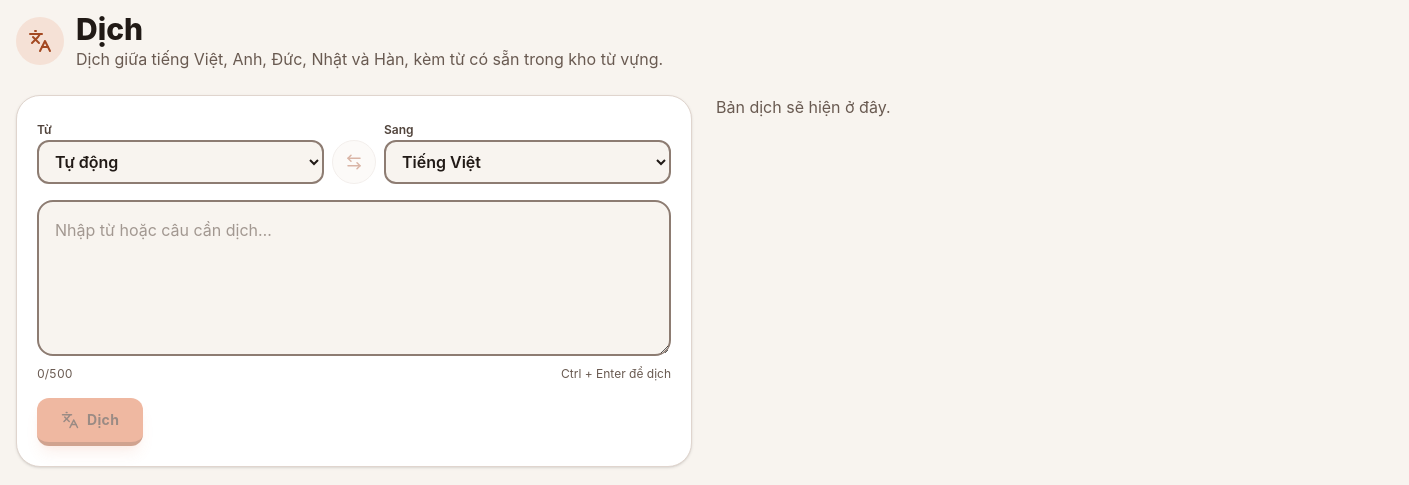
Test: TranslatePage › swaps the languages and moves the translation into the box
Select "Tiếng Nhật" in the dropdown labelled "Sang" at [528, 162], box [384,140,671,184]
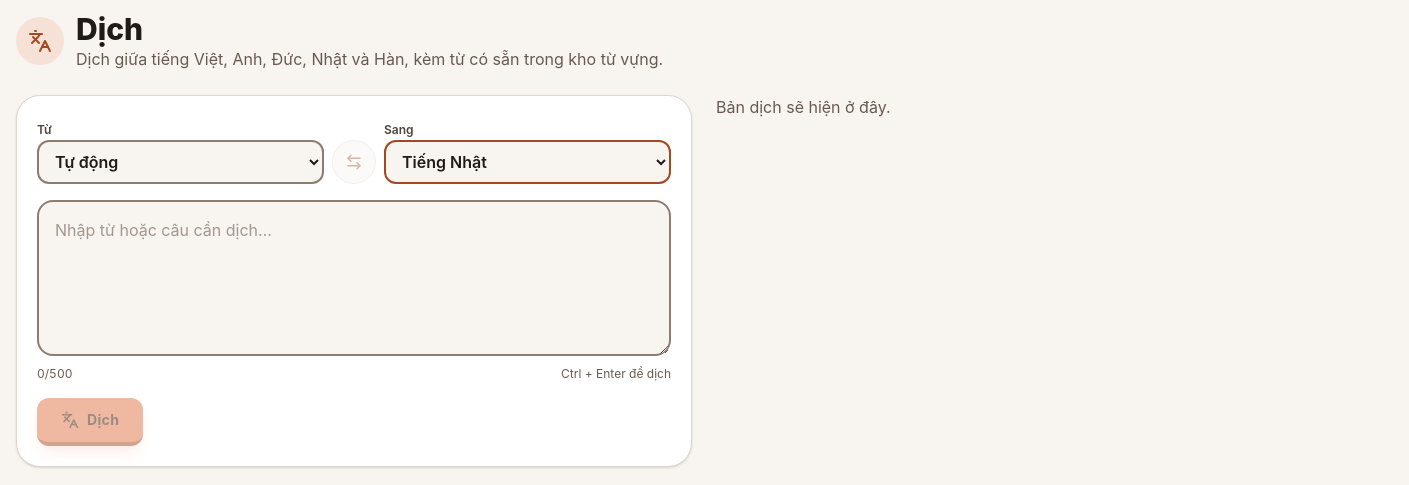
Type "con mèo" into the text box named "Nội dung cần dịch" at [354, 278], box [37,200,671,356]
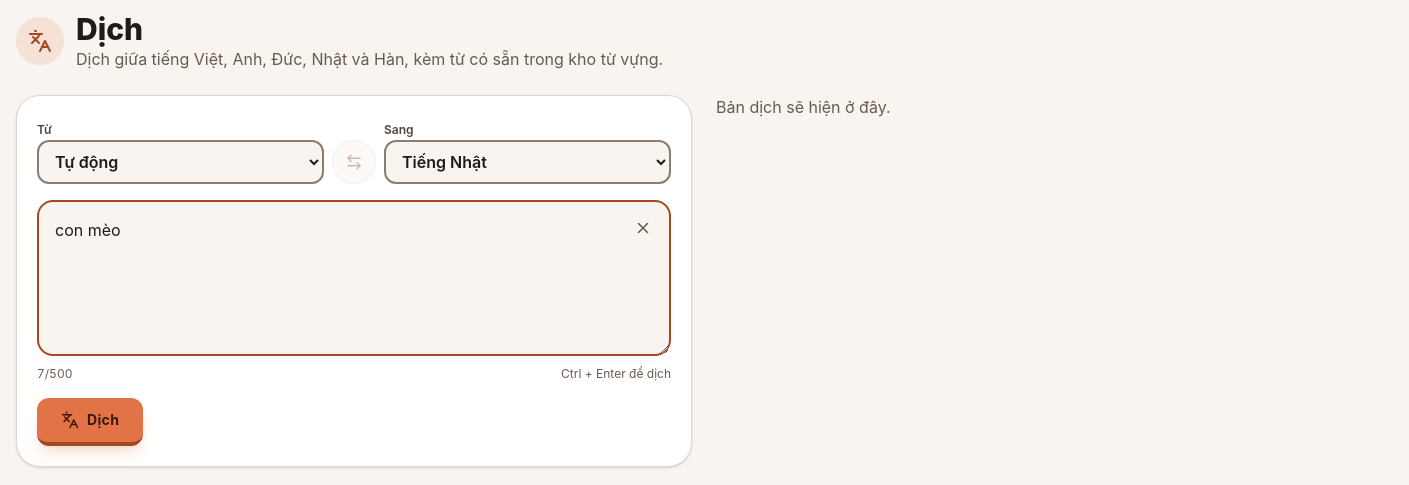
Click the button "Dịch" at [90, 422], box [37,398,143,446]
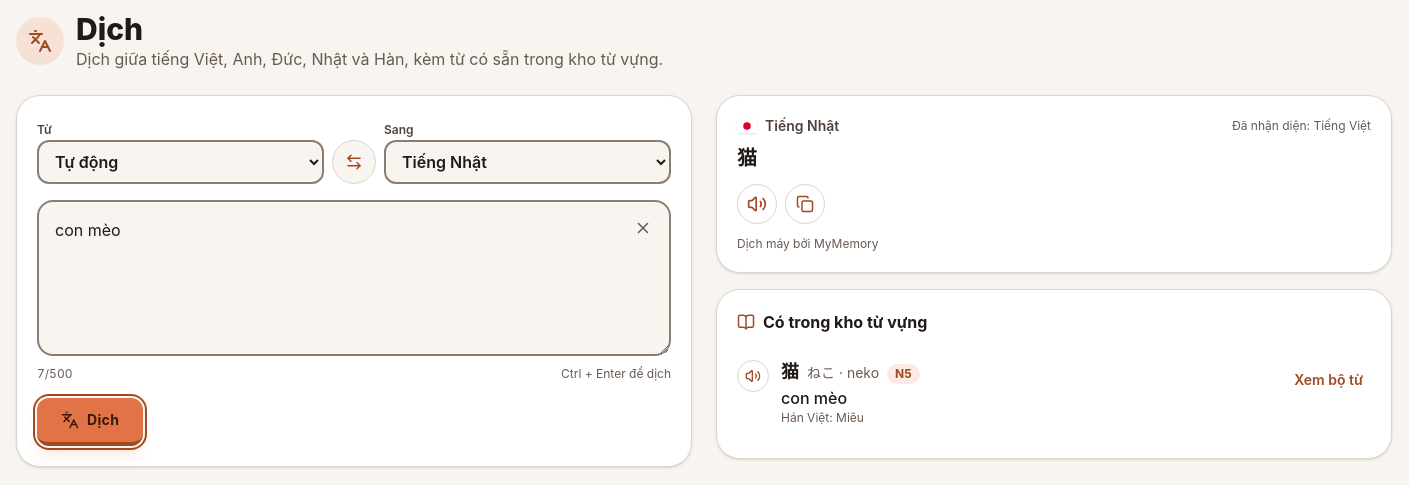
Check: the text "Đã nhận diện: Tiếng Việt" is shown, box [1232,118,1371,134]
Click the button named "Đổi chiều dịch" at [354, 162], box [332,140,376,184]
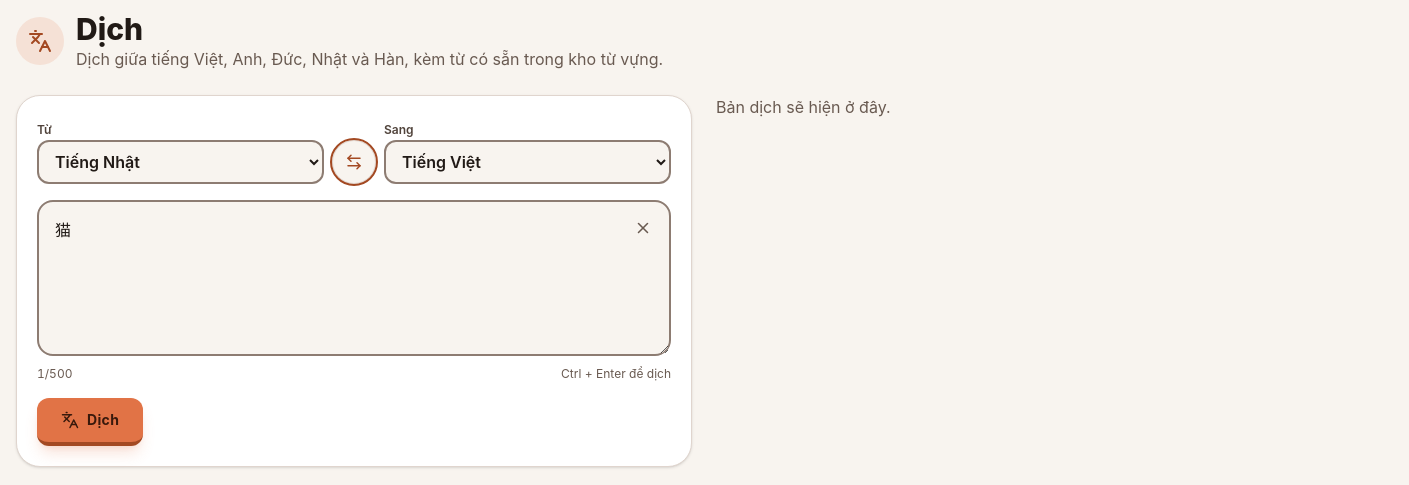
Check: the dropdown labelled "Từ" shows "Tiếng Nhật", box [37,140,324,184]
Check: the text box named "Nội dung cần dịch" holds "猫", box [37,200,671,356]
